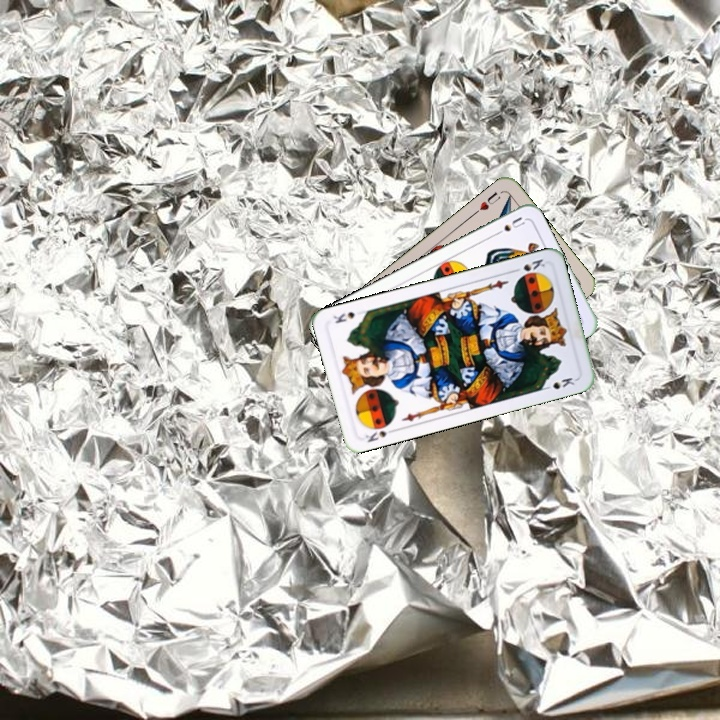HU: (470, 187, 503, 217)
SK: (508, 255, 548, 275), (361, 425, 398, 445)
SU: (490, 213, 528, 239)
